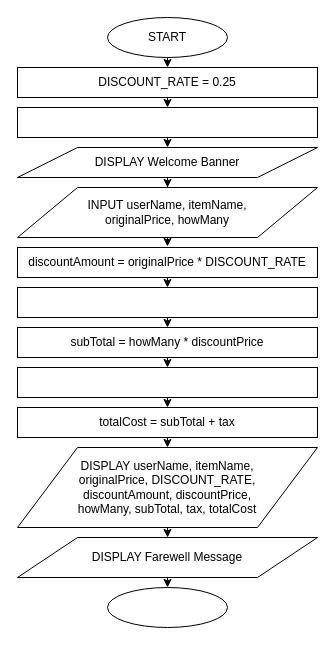
Some shapes in this 335 by 645 pixel diagram are drawn without their labels. Here are the shapes that lost their labels. From the top down, the centre of each, then its label:
At (x=167, y=122): "TAX_RATE = 0.75".
At (x=167, y=302): "discountPrice = originalPrice - discountAmount".
At (x=167, y=382): "tax = subTotal * TAX_RATE".
At (x=167, y=607): "STOP".
